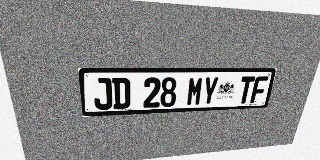2: (143, 77, 161, 108)
8: (160, 77, 178, 107)
D: (112, 78, 130, 109)
F: (250, 76, 269, 103)
J: (92, 78, 112, 110)
M: (186, 77, 204, 106)
T: (237, 76, 255, 104)
Y: (201, 77, 219, 105)
